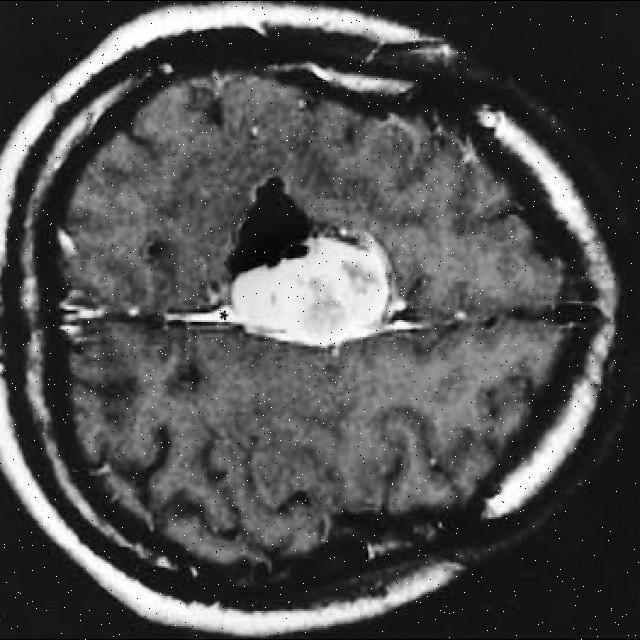Meningioma: (162, 230, 427, 347), (61, 303, 109, 335)
